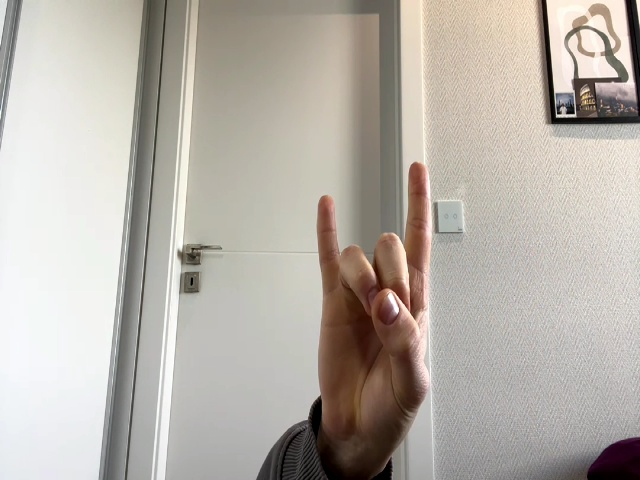Y: (318, 162, 430, 429)
